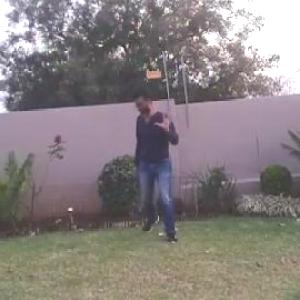follow_hand: (154, 104, 176, 134)
